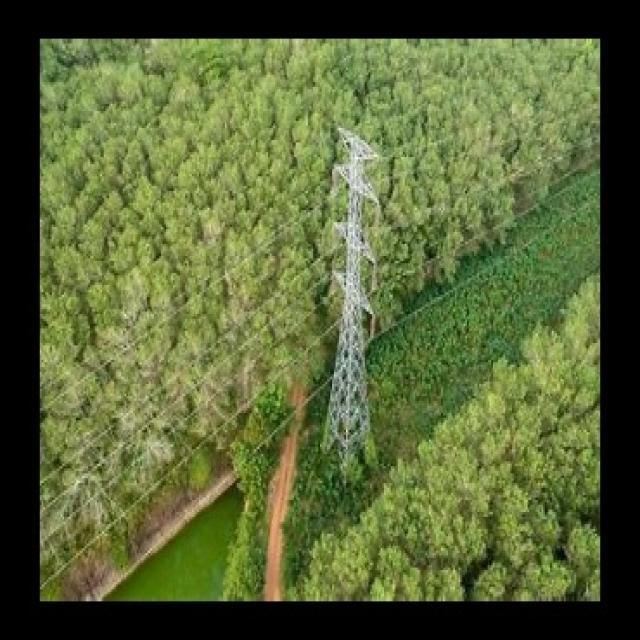utility poles: (304, 102, 393, 464)
